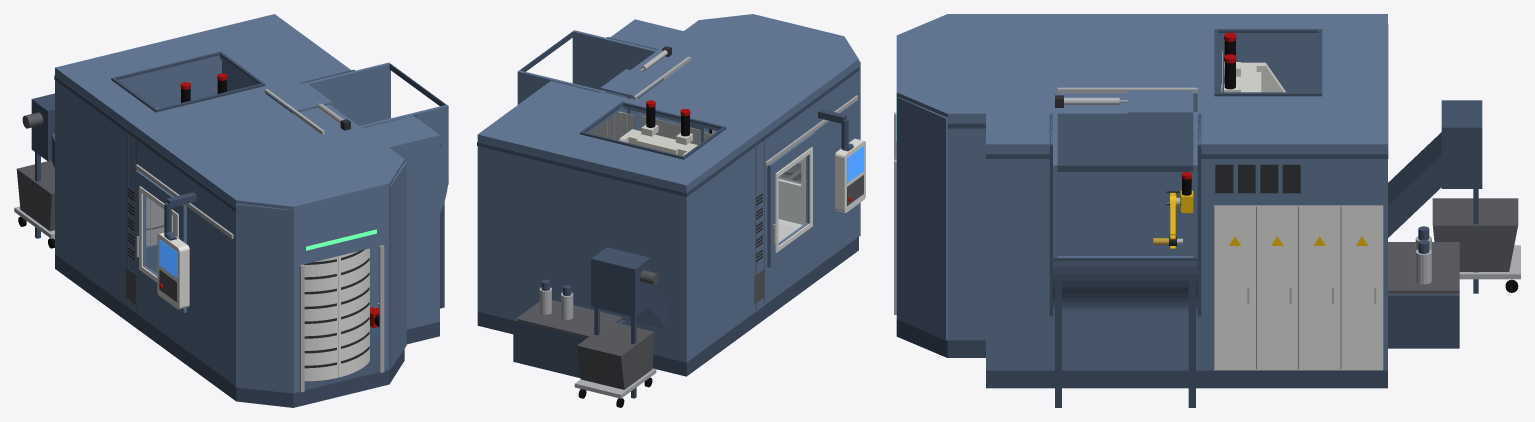
Rendered from clock800evo_fms_blue_left.glb.
The picture shows the model from 3 angles, left to right: view 1: azimuth 30°, elevation 25°; view 2: azimuth 150°, elevation 25°; view 3: azimuth 270°, elevation 25°; orthographic projection. The views are drawn at different scales.
Visible parts, largest first — view 1: enclosure__mcm_blue, apc_housing__mcm_blue, enclosure__mcm_blue_dk, tc_box__mcm_blue, apc_door_right__evo_white, apc_housing__mcm_blue_dk, apc_door_left__evo_white, chip_cart__steel_dark, operator_door__mcm_blue, chip_coolant__mcm_blue_dk, apc_housing__steel, cnc_panel__evo_white (+13 smaller); view 2: enclosure__mcm_blue, chip_coolant__mcm_blue_dk, apc_housing__mcm_blue, enclosure__mcm_blue_dk, chip_cart__steel_dark, tc_box__mcm_blue, operator_door__mcm_blue, operator_door__glass_clear, chip_coolant__anthracite_lt, apc_turntable__evo_white, column__struct_grey, cnc_panel__evo_white (+12 smaller); view 3: enclosure__mcm_blue, apc_housing__mcm_blue, electrical_cabinet__evo_white, enclosure__mcm_blue_dk, chip_coolant__mcm_blue_dk, tc_door__mcm_blue, tc_box__mcm_blue, chip_cart__steel_dark, tc_box__mcm_blue_dk, chip_coolant__anthracite_lt, enclosure__anthracite, apc_housing__mcm_blue_dk (+6 smaller).
Part boxes in pixels (box(x1,y1,x2,y2)): enclosure__mcm_blue: box(55, 14, 439, 374); apc_housing__mcm_blue: box(220, 147, 406, 393); enclosure__mcm_blue_dk: box(54, 51, 440, 389); tc_box__mcm_blue: box(307, 62, 448, 213); apc_door_right__evo_white: box(304, 256, 338, 381); apc_housing__mcm_blue_dk: box(220, 197, 404, 407); apc_door_left__evo_white: box(338, 248, 369, 377); chip_cart__steel_dark: box(16, 160, 54, 231); operator_door__mcm_blue: box(135, 170, 186, 312); chip_coolant__mcm_blue_dk: box(31, 93, 54, 238); apc_housing__steel: box(299, 245, 384, 392); cnc_panel__evo_white: box(157, 232, 189, 309); enclosure__mcm_blue: box(477, 19, 843, 362); chip_coolant__mcm_blue_dk: box(513, 247, 668, 398); apc_housing__mcm_blue: box(684, 14, 860, 246); enclosure__mcm_blue_dk: box(477, 37, 844, 376); chip_cart__steel_dark: box(577, 321, 654, 389); tc_box__mcm_blue: box(517, 30, 656, 104); operator_door__mcm_blue: box(767, 132, 816, 267); operator_door__glass_clear: box(779, 156, 807, 243); chip_coolant__anthracite_lt: box(516, 300, 622, 338); apc_turntable__evo_white: box(712, 130, 805, 228); column__struct_grey: box(619, 124, 697, 155); cnc_panel__evo_white: box(835, 138, 865, 212); enclosure__mcm_blue: box(986, 14, 1387, 370); apc_housing__mcm_blue: box(896, 14, 985, 340); electrical_cabinet__evo_white: box(1214, 205, 1383, 370); enclosure__mcm_blue_dk: box(986, 24, 1388, 388); chip_coolant__mcm_blue_dk: box(1388, 100, 1482, 348); tc_door__mcm_blue: box(1127, 90, 1193, 256); tc_box__mcm_blue: box(1053, 113, 1197, 311); chip_cart__steel_dark: box(1432, 198, 1518, 271); tc_box__mcm_blue_dk: box(1053, 165, 1197, 407); chip_coolant__anthracite_lt: box(1388, 242, 1459, 293); enclosure__anthracite: box(1055, 95, 1300, 193); apc_housing__mcm_blue_dk: box(896, 123, 985, 357).
Size of the model in its own units: 4.52 by 3.22 by 6.98.
